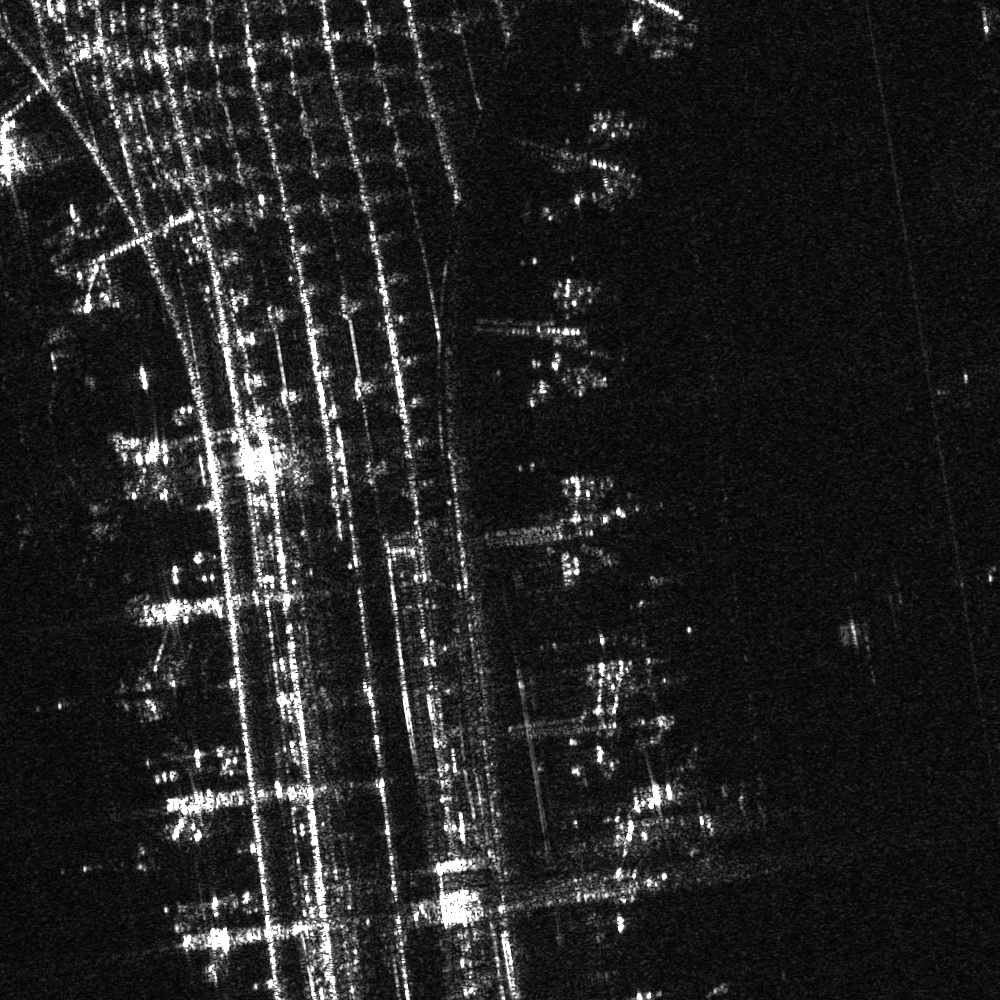Boeing787: (1, 286, 80, 402)
other: (8, 459, 130, 576)
